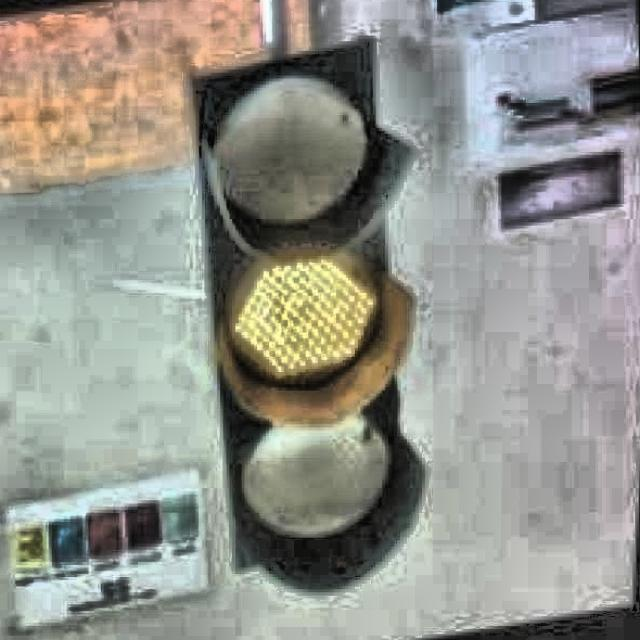yellow: (202, 45, 420, 574)
